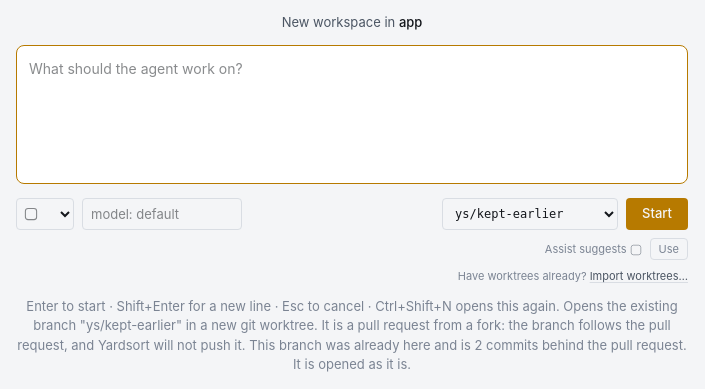
Test: Composer › opens on a pull request's branch when started from one, and says what it is
Check: the dropdown named "Branch" shows "ys/kept-earlier", box [442, 198, 618, 230]
Check: the text "Enter to start" shows "Opens the existing branch \"ys/kept-earlier\"", box [33, 298, 678, 333]
Step 1. Click the button "Start" → (657, 214), box [626, 198, 688, 230]
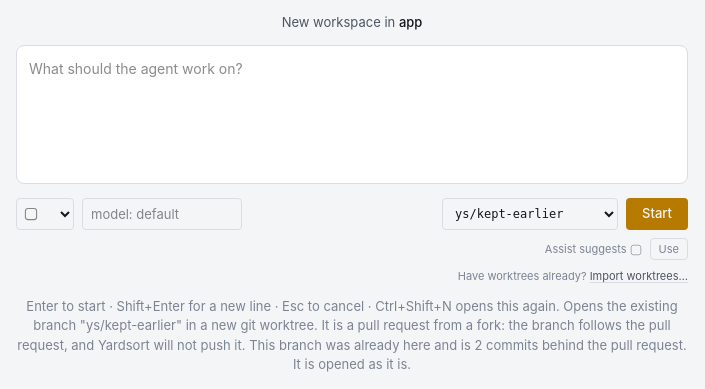
# Another branch chosen by hand is not the pull request's, and is not described as one.
Step 2. Select "develop" in the dropdown named "Branch" → (530, 214), box [442, 198, 618, 230]
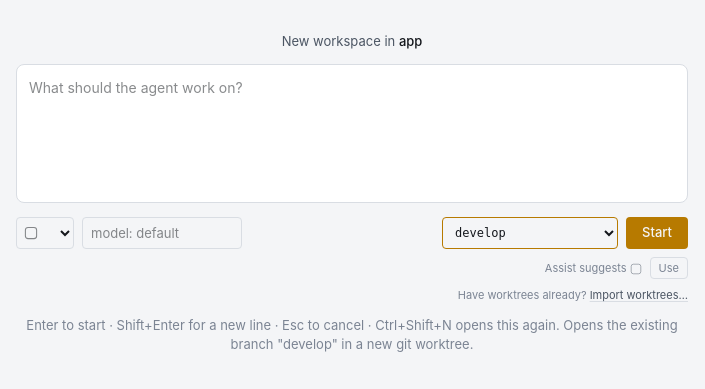
Check: the text "Enter to start" no longer shows "pull request", box [16, 316, 688, 355]
